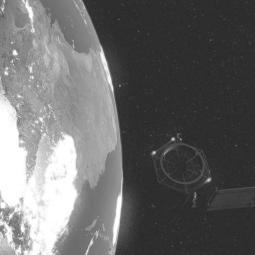earth_observation_sat_1: (142, 133, 255, 217)
